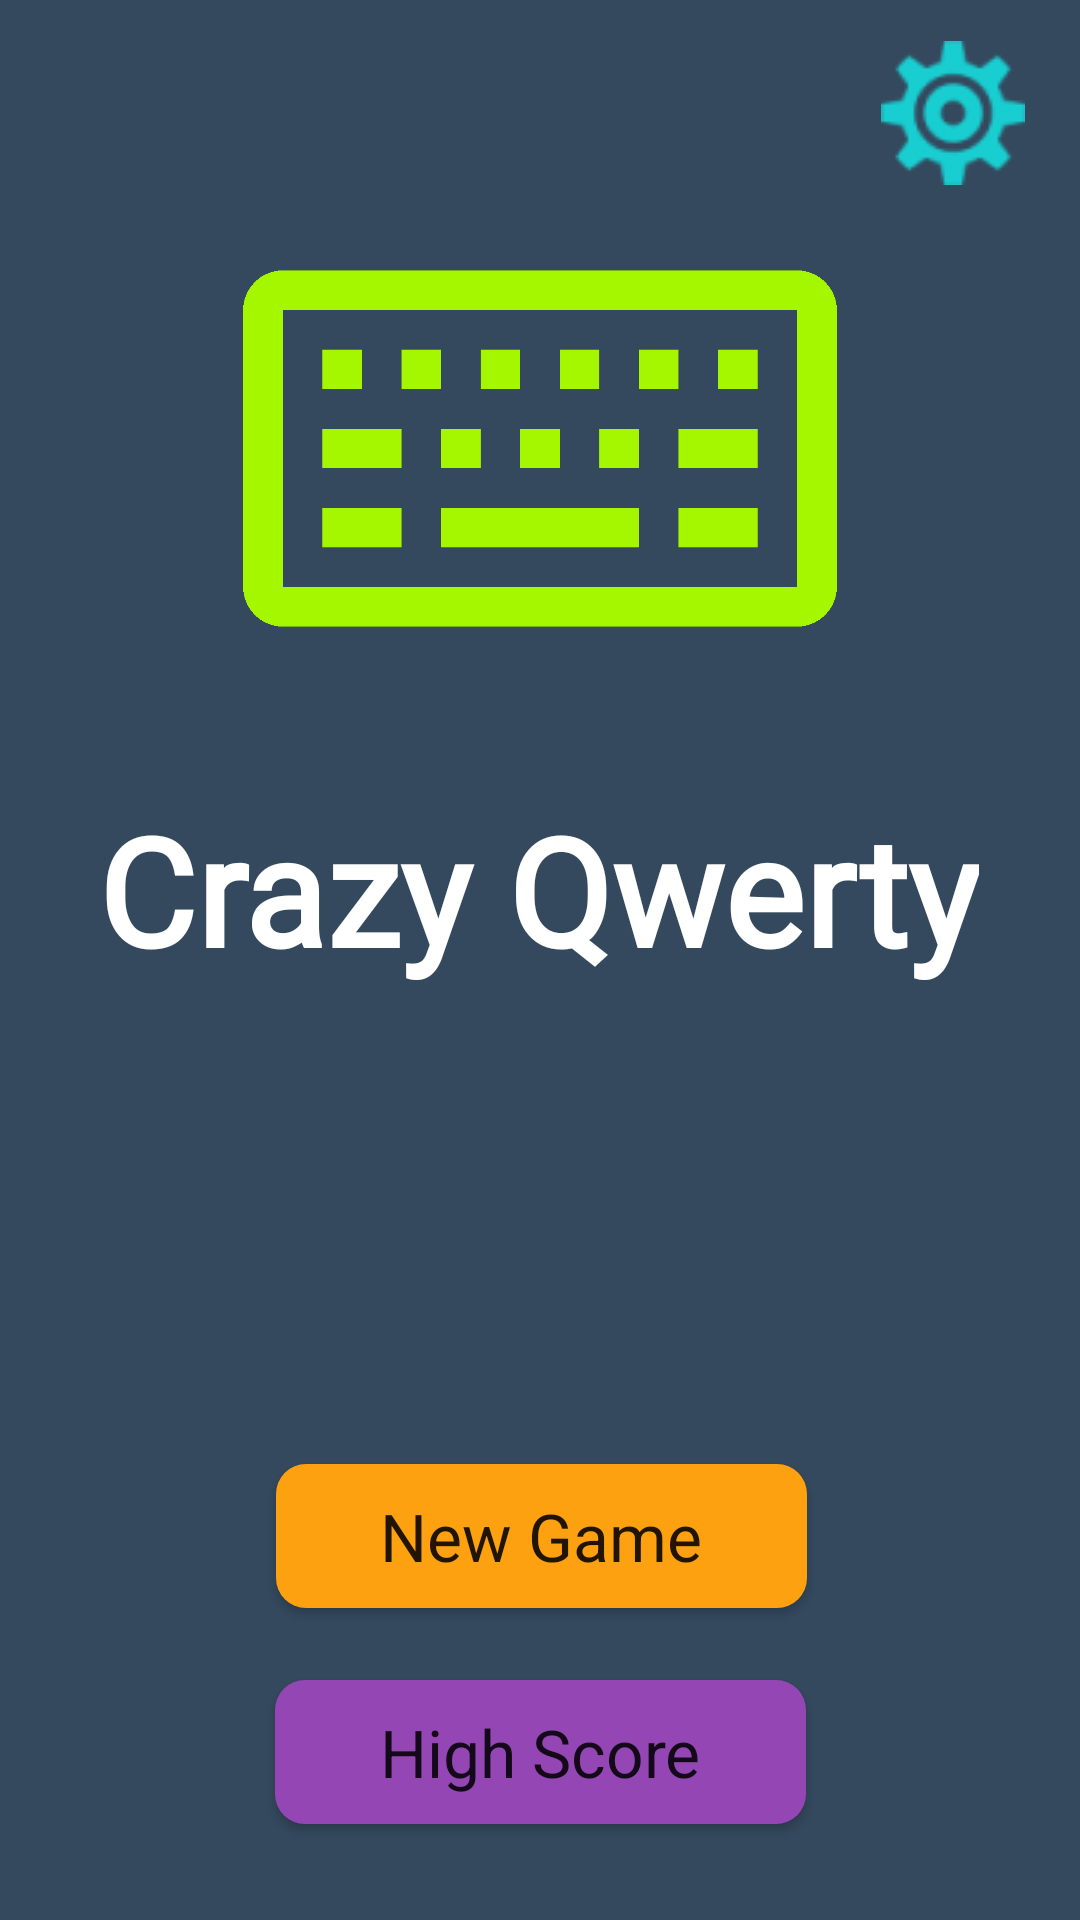

Named icons in this screenshot (1080×1920) and their bounding boxes, (x1, y1, x2, y2):
settings: (881, 41, 1025, 185)
